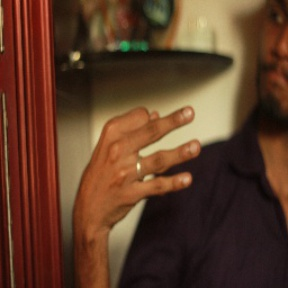K: (74, 100, 205, 214)
